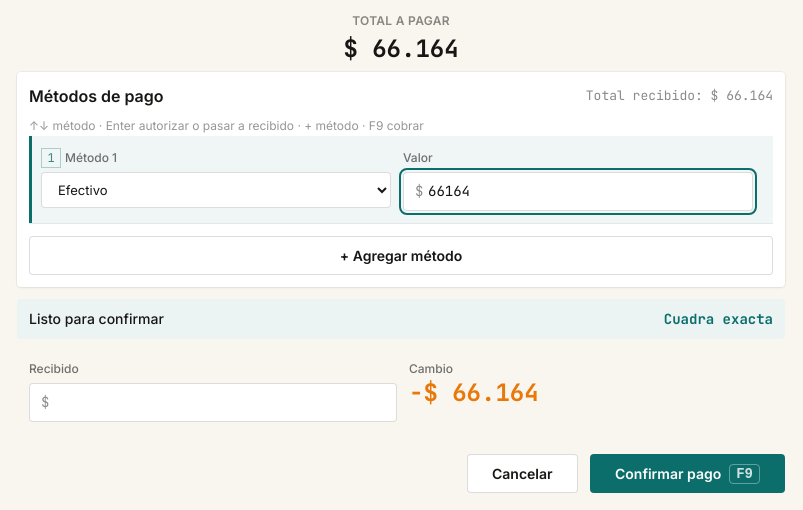
Test case: PaymentProcessing › keeps the confirm button disabled until the split matches the total
Expected: the button "Confirmar pago F9" is enabled, top-left (590, 454), bottom-right (785, 493)
Replace the text in the number field labelled "Valor" with "50000": x=578, y=191 top-left (403, 172), bottom-right (753, 211)
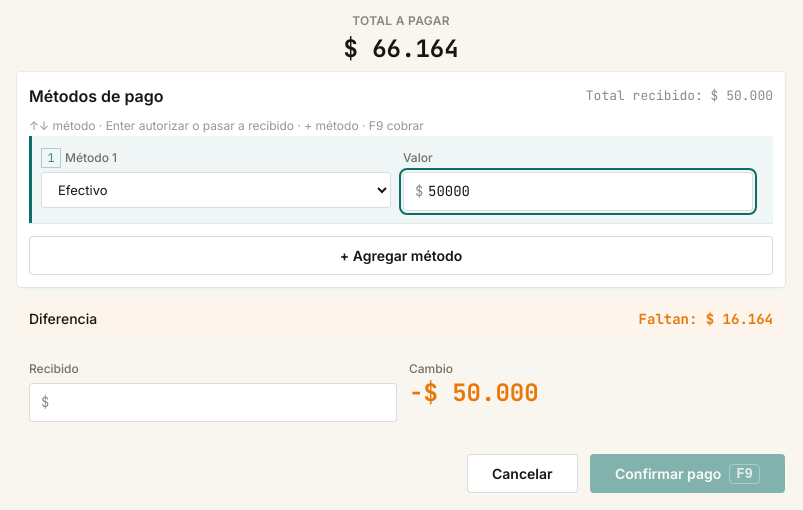
Now the button "Confirmar pago F9" is disabled, box top-left (590, 454), bottom-right (785, 493)
# Restore the exact amount → enabled again.
Replace the text in the number field labelled "Valor" with "66164": x=578, y=191 top-left (403, 172), bottom-right (753, 211)
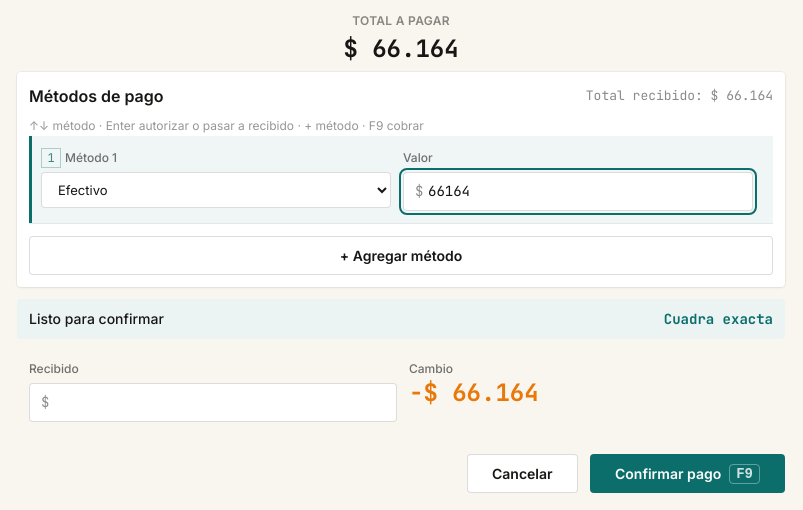
Now the button "Confirmar pago F9" is enabled, box top-left (590, 454), bottom-right (785, 493)
